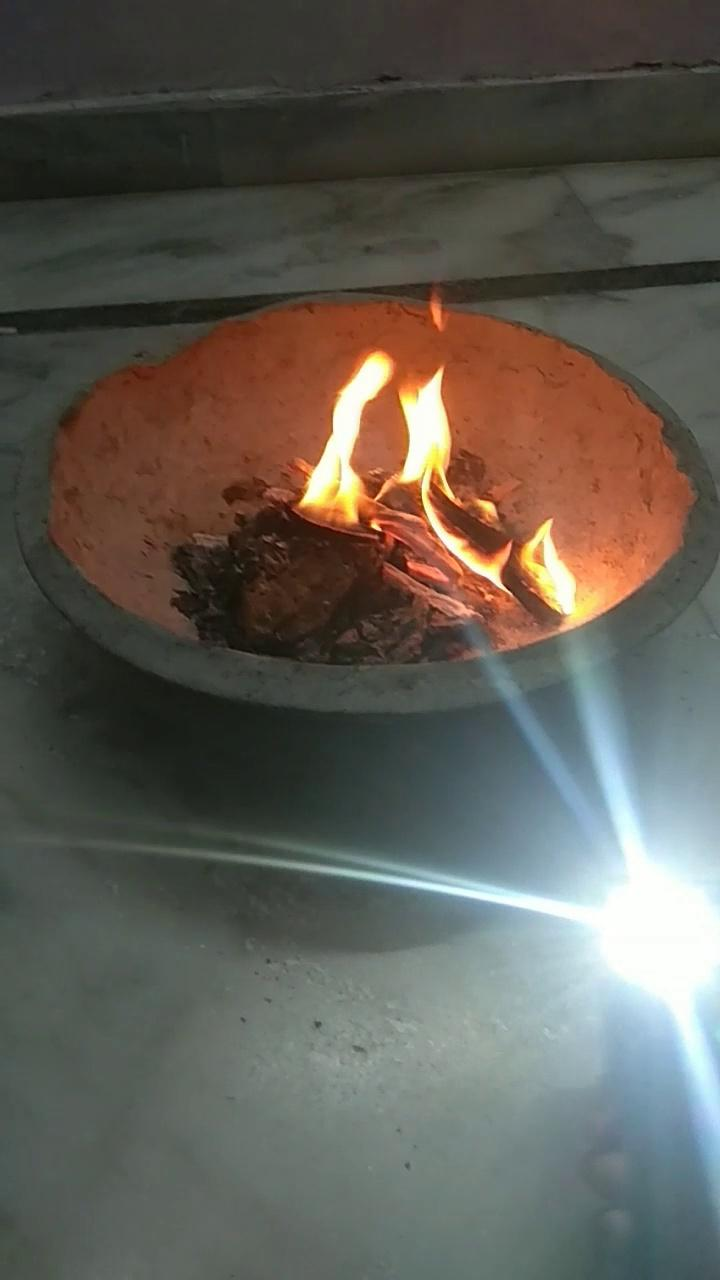fire: (294, 352, 596, 634)
